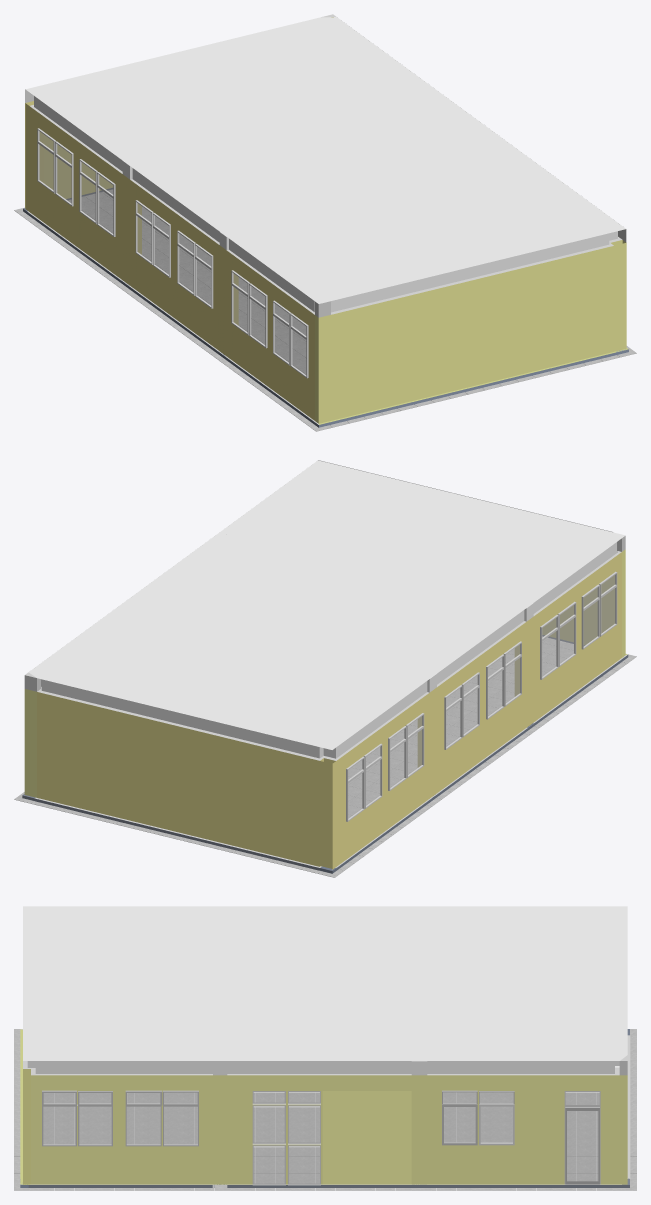
The model's file is PHONGVE3D.glb.
3 renders of one model, top to bottom at view 1: azimuth 30°, elevation 25°; view 2: azimuth 150°, elevation 25°; view 3: azimuth 270°, elevation 25°, orthographic. The views are drawn at different scales.
Visible parts, largest first — view 1: Cube.003, Cube.026, Cube.029, Cube.079, Cube.078, Cube.076, Cube.010, Cube.011, Cube.009, Cube.077, Cube.012, Cube.032 (+3 smaller); view 2: Cube.003, Cube.012, Cube.029, Cube.079, Cube.078, Cube.076, Cube.013, Cube.009, Cube.026, Cube.077, Cube.054, Cube.080 (+4 smaller); view 3: Cube.003, Cube.054, Cube.079, Cube.030, Cube.045, Cube.072, Cube.034, Cube.023, Cube.058, Cube.038, Cube.056, Cube.039 (+9 smaller).
Part boxes in pixels (<box>): Cube.003: <box>26,17,625,303</box>; Cube.026: <box>315,258,626,423</box>; Cube.029: <box>25,103,314,420</box>; Cube.079: <box>14,189,636,431</box>; Cube.078: <box>39,145,306,374</box>; Cube.076: <box>37,128,308,378</box>; Cube.010: <box>315,240,626,332</box>; Cube.011: <box>314,231,617,312</box>; Cube.009: <box>34,96,314,311</box>; Cube.077: <box>39,132,306,335</box>; Cube.012: <box>44,135,113,198</box>; Cube.032: <box>319,349,628,427</box>; Cube.003: <box>29,460,625,749</box>; Cube.012: <box>37,692,335,866</box>; Cube.029: <box>322,552,621,869</box>; Cube.079: <box>14,636,636,877</box>; Cube.078: <box>348,588,614,818</box>; Cube.076: <box>346,571,617,821</box>; Cube.013: <box>45,680,319,758</box>; Cube.009: <box>319,542,616,758</box>; Cube.026: <box>542,564,625,657</box>; Cube.077: <box>348,575,614,779</box>; Cube.054: <box>24,689,36,797</box>; Cube.080: <box>320,761,332,868</box>; Cube.003: <box>23,906,627,1060</box>; Cube.054: <box>31,1075,627,1184</box>; Cube.079: <box>14,1029,636,1190</box>; Cube.030: <box>35,1061,614,1073</box>; Cube.045: <box>253,1092,319,1184</box>; Cube.072: <box>43,1106,197,1144</box>; Cube.034: <box>567,1111,598,1181</box>; Cube.023: <box>28,1178,629,1187</box>; Cube.058: <box>42,1105,198,1146</box>; Cube.038: <box>480,1106,512,1142</box>; Cube.056: <box>252,1105,320,1185</box>; Cube.039: <box>444,1107,475,1142</box>.
Size of what is drawn, in the model's own units: 9.59 by 3.52 by 15.65.
Materials: 23 (1 with a texture image).
